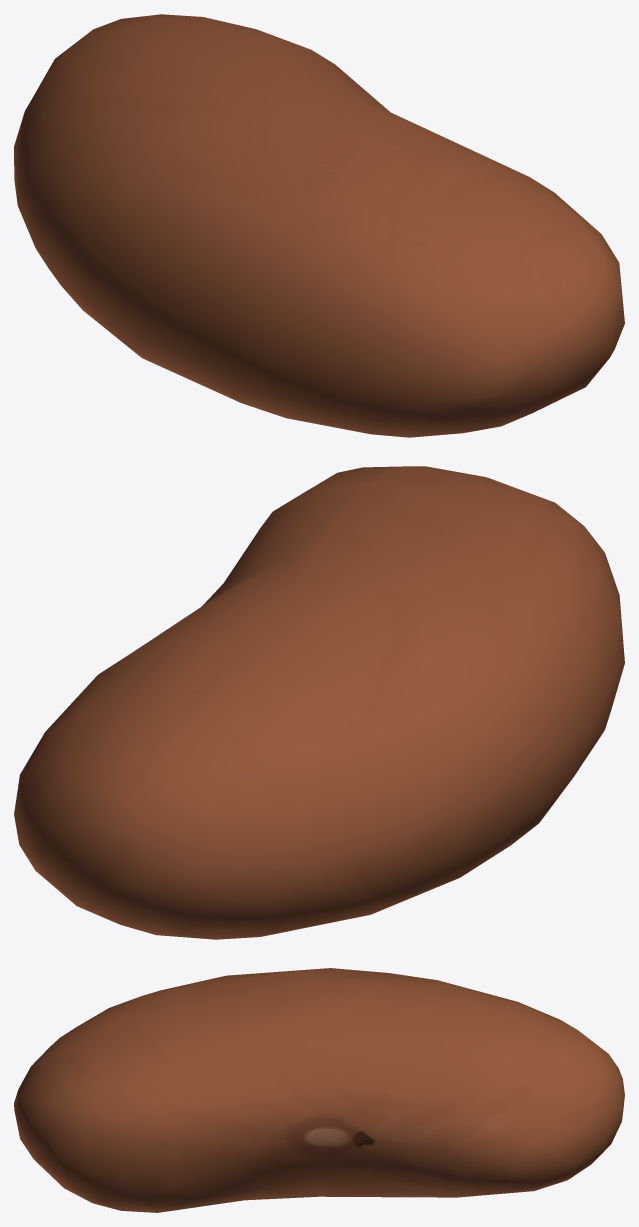
File: fasole_seed.glb
3 views of the same model, one above another, from view 1: azimuth 30°, elevation 25°; view 2: azimuth 150°, elevation 25°; view 3: azimuth 270°, elevation 25° (orthographic). The views are drawn at different scales.
Visible parts, largest first — view 1: Sphere.001; view 2: Sphere.001; view 3: Sphere.001.
Boxes of the visible parts, x1,y1,x2,y2 form: Sphere.001: [14, 14, 624, 437]; Sphere.001: [14, 466, 624, 939]; Sphere.001: [14, 968, 624, 1212].
Bounding box in the file's own units: 0.00905 × 0.00591 × 0.0169.
1 material, 1 textured.
